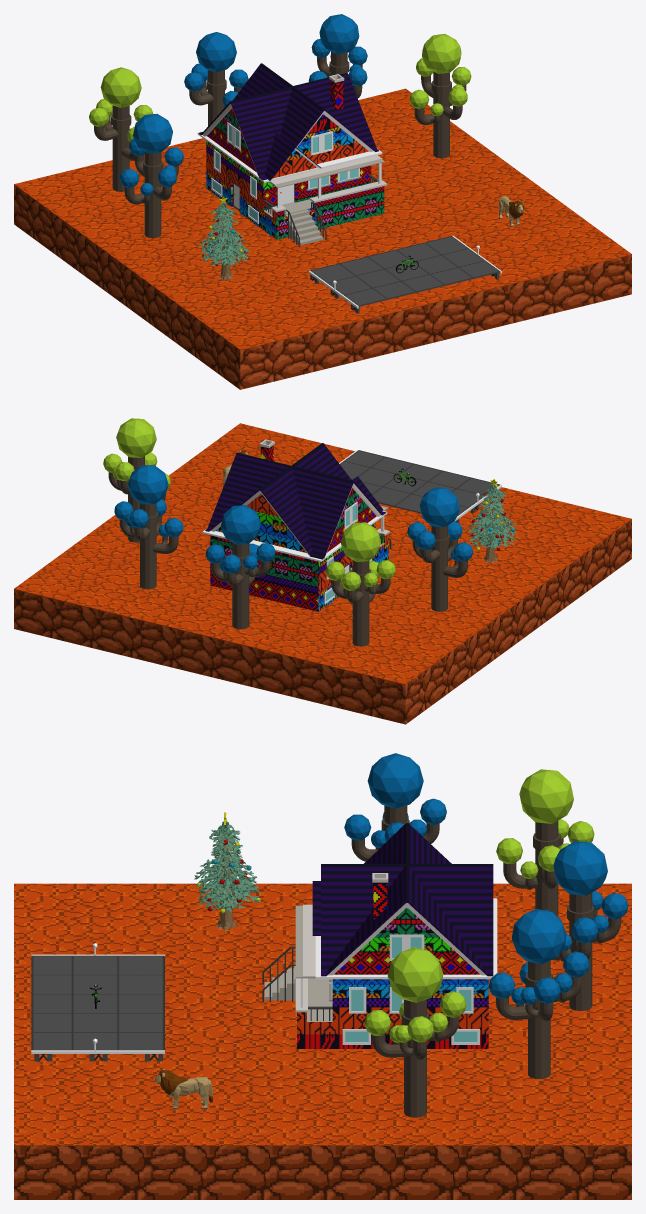
The picture shows the model from 3 angles, top to bottom: view 1: azimuth 30°, elevation 25°; view 2: azimuth 150°, elevation 25°; view 3: azimuth 270°, elevation 25°; orthographic projection. The views are drawn at different scales.
Parts seen in each view (by area): view 1: Cube.001, Cube.966, OBJRANDOM_CHRISTMAS_TREE; view 2: Cube.001, Cube.966, OBJRANDOM_CHRISTMAS_TREE; view 3: Cube.001, Cube.966, OBJRANDOM_CHRISTMAS_TREE, ANIMAL_LEON.
Part boxes in pixels (x1,y1,x2,y2): Cube.001: [14, 14, 631, 389]; Cube.966: [197, 63, 387, 246]; OBJRANDOM_CHRISTMAS_TREE: [198, 196, 250, 280]; Cube.001: [14, 418, 631, 724]; Cube.966: [202, 439, 391, 611]; OBJRANDOM_CHRISTMAS_TREE: [466, 479, 516, 563]; Cube.001: [14, 753, 631, 1199]; Cube.966: [262, 823, 497, 1048]; OBJRANDOM_CHRISTMAS_TREE: [194, 812, 261, 930]; ANIMAL_LEON: [155, 1069, 212, 1109].
Bounding box in the file's own units: 4000 × 1667 × 4000.
38 materials, 8 textured.
